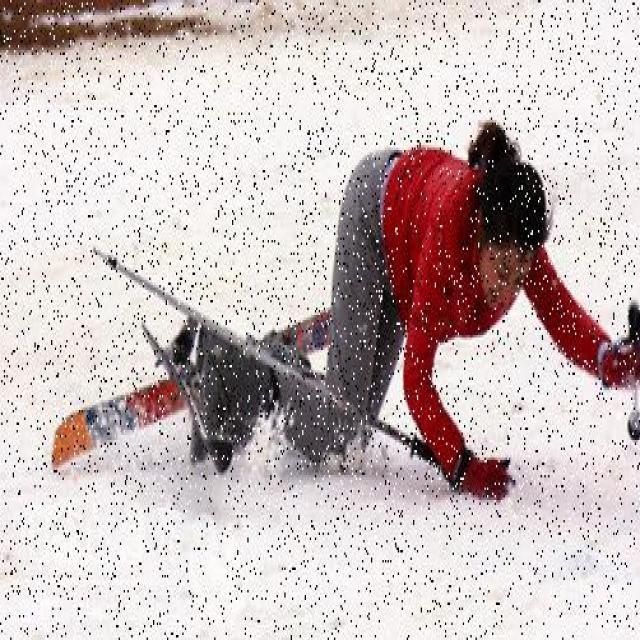fall: (209, 136, 626, 452)
